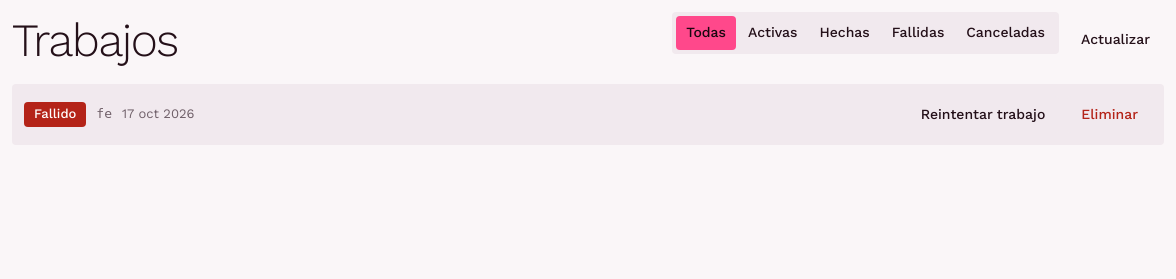
Scenario: JobsPage retry options and error handling (F8/F9) › survives a rejected retry: shows the error and the button is usable again (F8)
Click the button "Reintentar trabajo": (983, 115) [907, 96, 1059, 133]
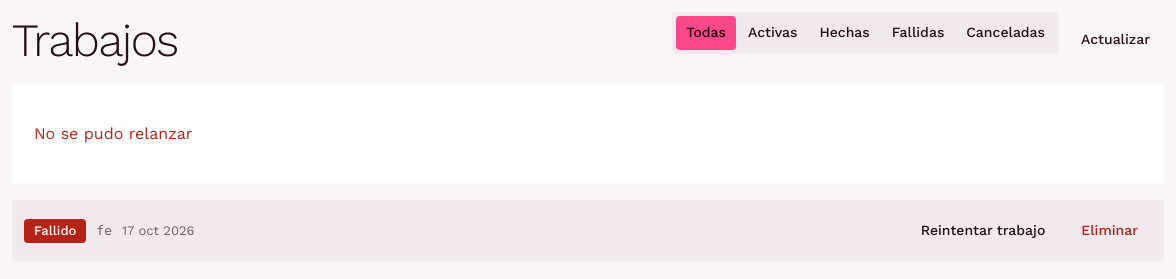
Expected: the button "Reintentar trabajo" is enabled, [907, 212, 1059, 250]
Now the text "No se pudo relanzar" is shown, box [34, 122, 192, 146]
